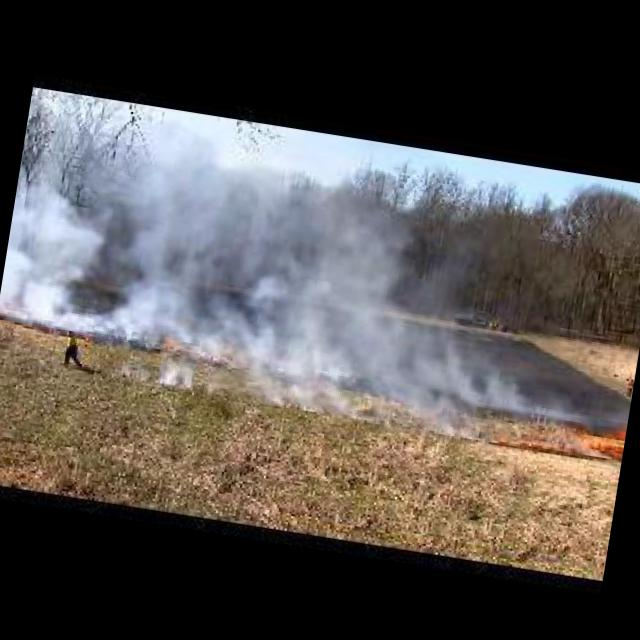fire: (570, 428, 626, 461), (606, 421, 628, 441), (82, 333, 94, 344)
smoke: (0, 175, 567, 410)
